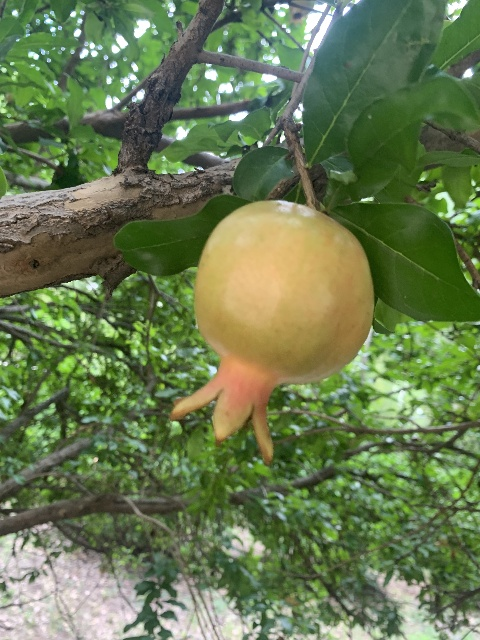mid-growth: (167, 200, 373, 467)
